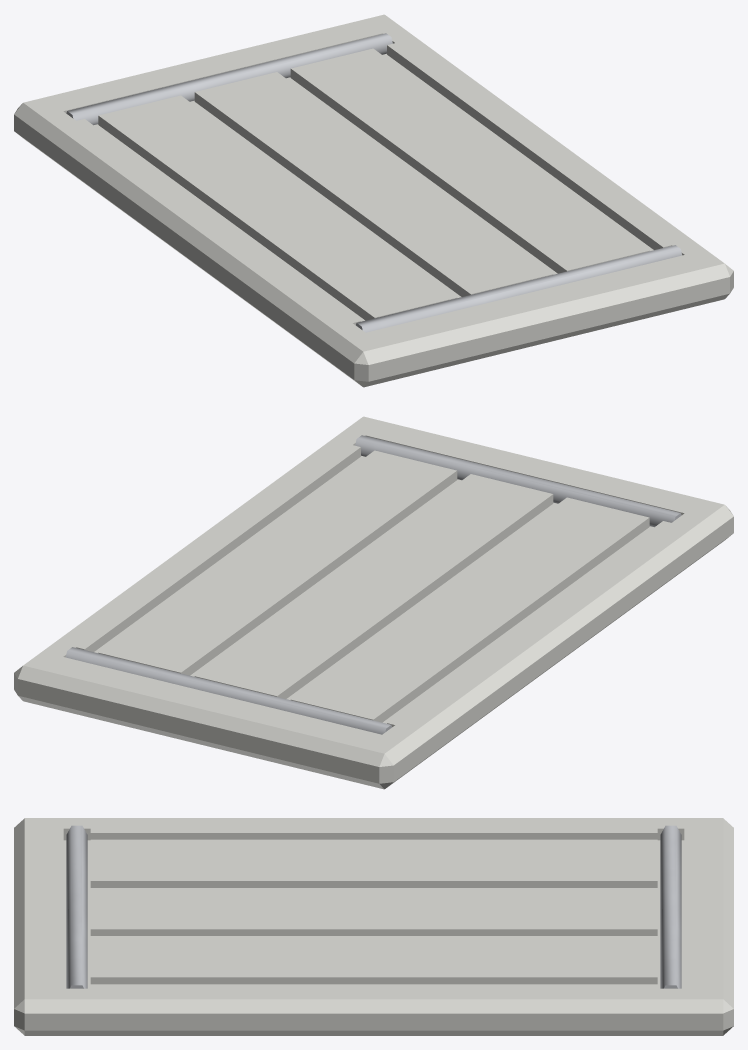
Rendered from ax_power_06_conformal_radiator_s.glb.
The picture shows the model from 3 angles, top to bottom: view 1: azimuth 30°, elevation 25°; view 2: azimuth 150°, elevation 25°; view 3: azimuth 270°, elevation 25°; orthographic projection. The views are drawn at different scales.
Parts seen in each view (by area): view 1: radiator_panel, flow_manifolds; view 2: radiator_panel, flow_manifolds; view 3: radiator_panel, flow_manifolds.
Part boxes in pixels (x1,y1,x2,y2): radiator_panel: [14, 14, 733, 387]; flow_manifolds: [66, 33, 682, 332]; radiator_panel: [14, 416, 733, 789]; flow_manifolds: [65, 435, 681, 734]; radiator_panel: [14, 818, 733, 1035]; flow_manifolds: [66, 825, 681, 988].
Bounding box in the file's own units: 0.5 × 0.049 × 0.8.
Materials: 2 (1 with a texture image).
